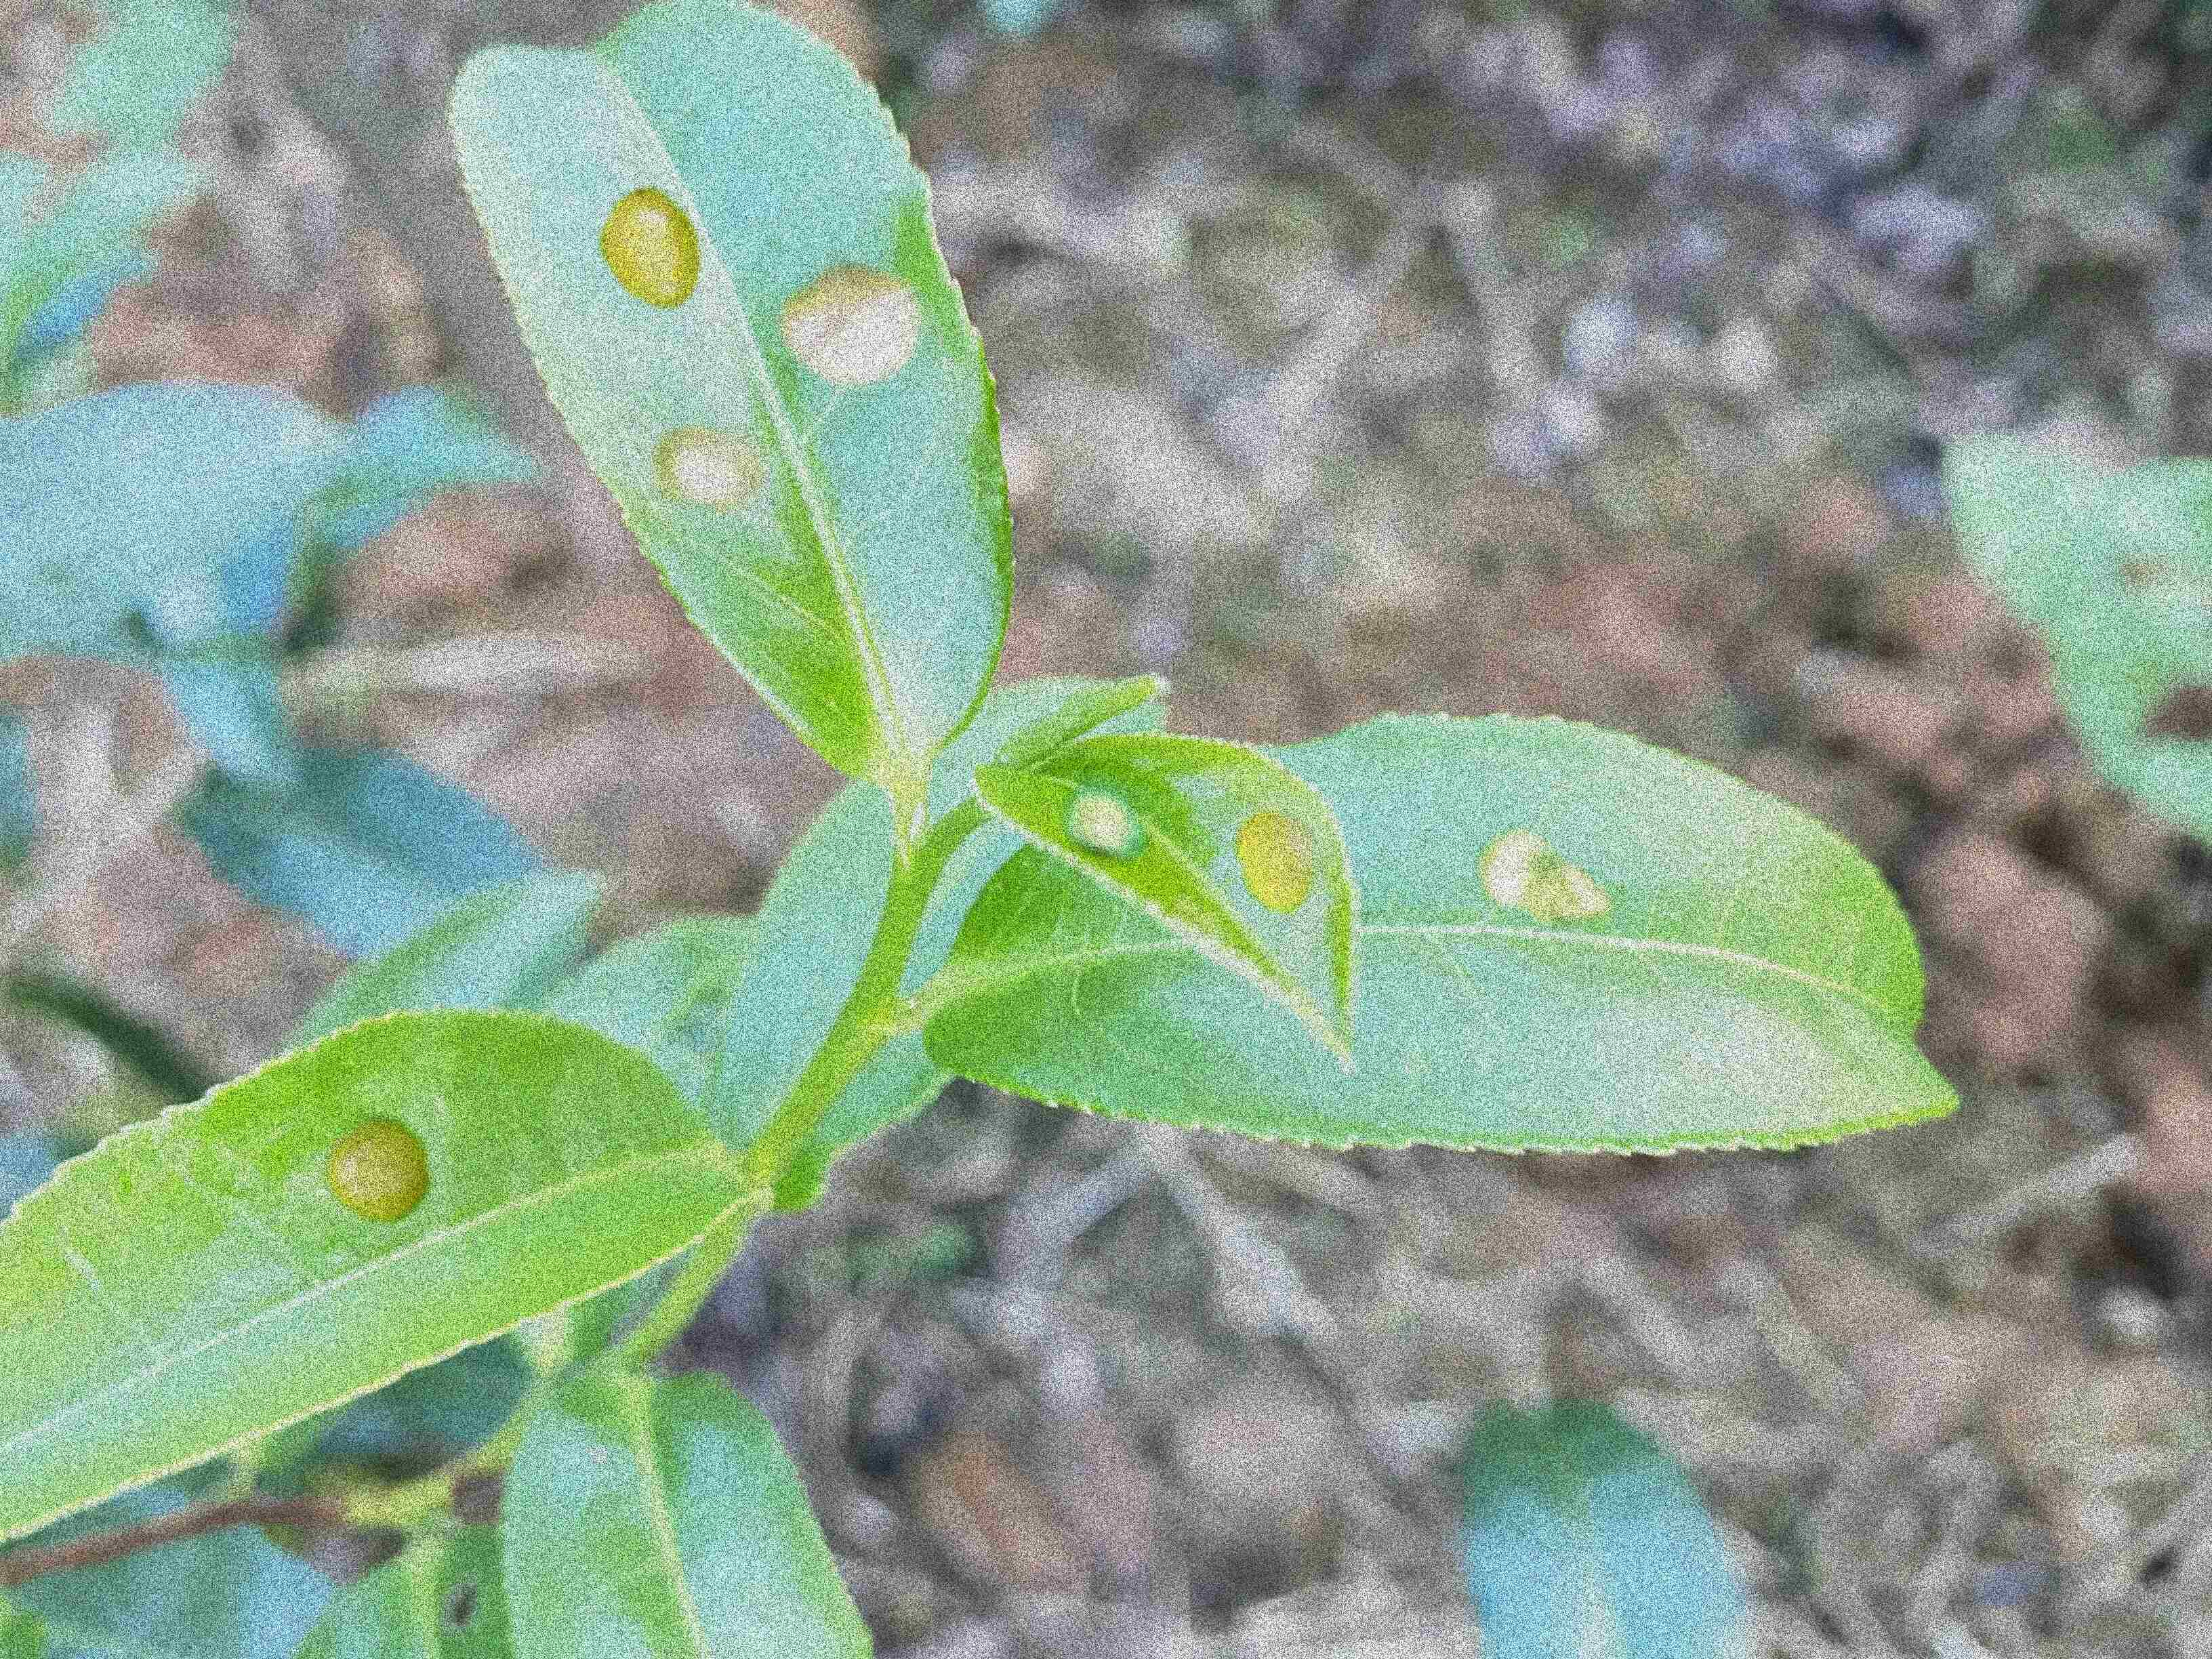chabing_high: (449, 0, 1014, 788), (972, 728, 1357, 1079)
chabing_low: (932, 714, 1961, 1159), (2, 1004, 772, 1547)
